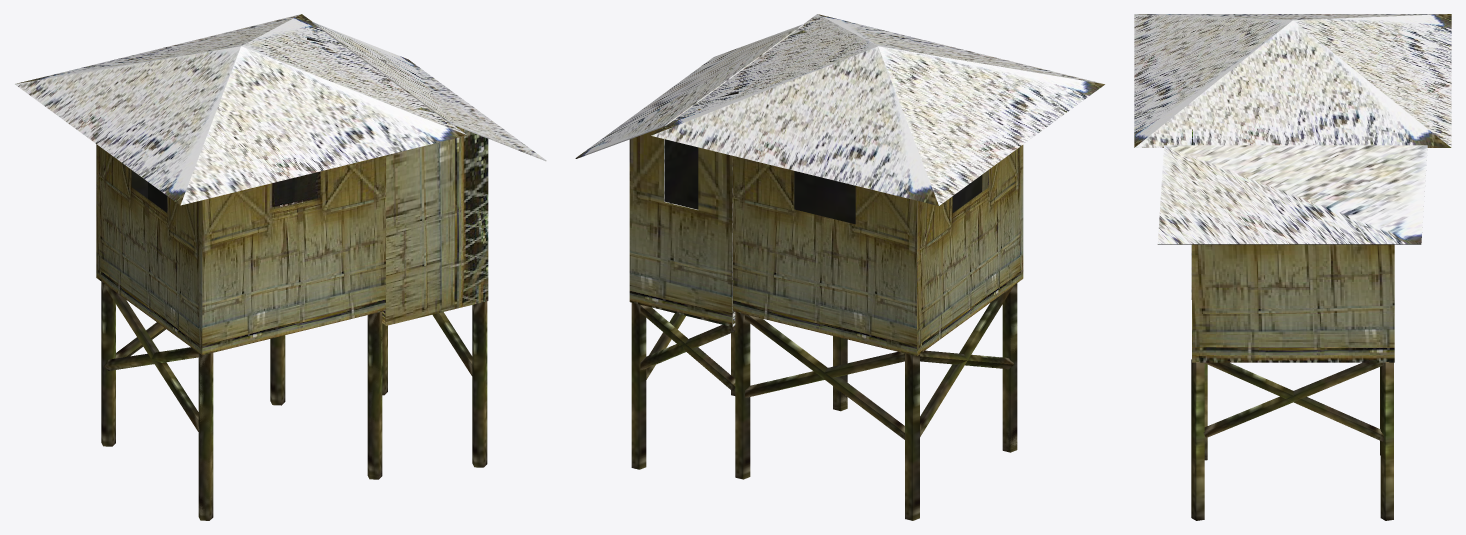
Rendered from Bahay kubo 1.fbx.
3 renders of one model, left to right at view 1: azimuth 30°, elevation 25°; view 2: azimuth 150°, elevation 25°; view 3: azimuth 270°, elevation 25°, orthographic. The views are drawn at different scales.
Visible parts, largest first — view 1: Cube; view 2: Cube; view 3: Cube.
Part boxes in pixels (box(x1,y1,x2,y2)): Cube: box(15, 14, 546, 520); Cube: box(575, 14, 1104, 520); Cube: box(1134, 14, 1451, 520).
Size of the model in its own units: 4.12 by 3.13 by 4.46.
Materials: 6 (6 with a texture image).
